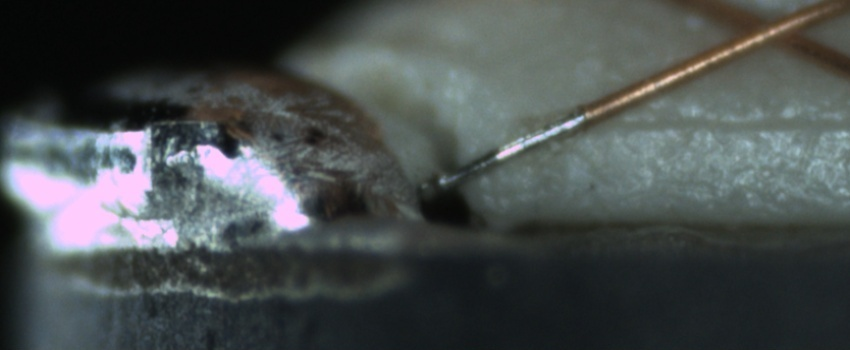CL: (708, 3, 834, 57)
DL: (582, 90, 838, 159)
TS: (425, 110, 583, 194)
